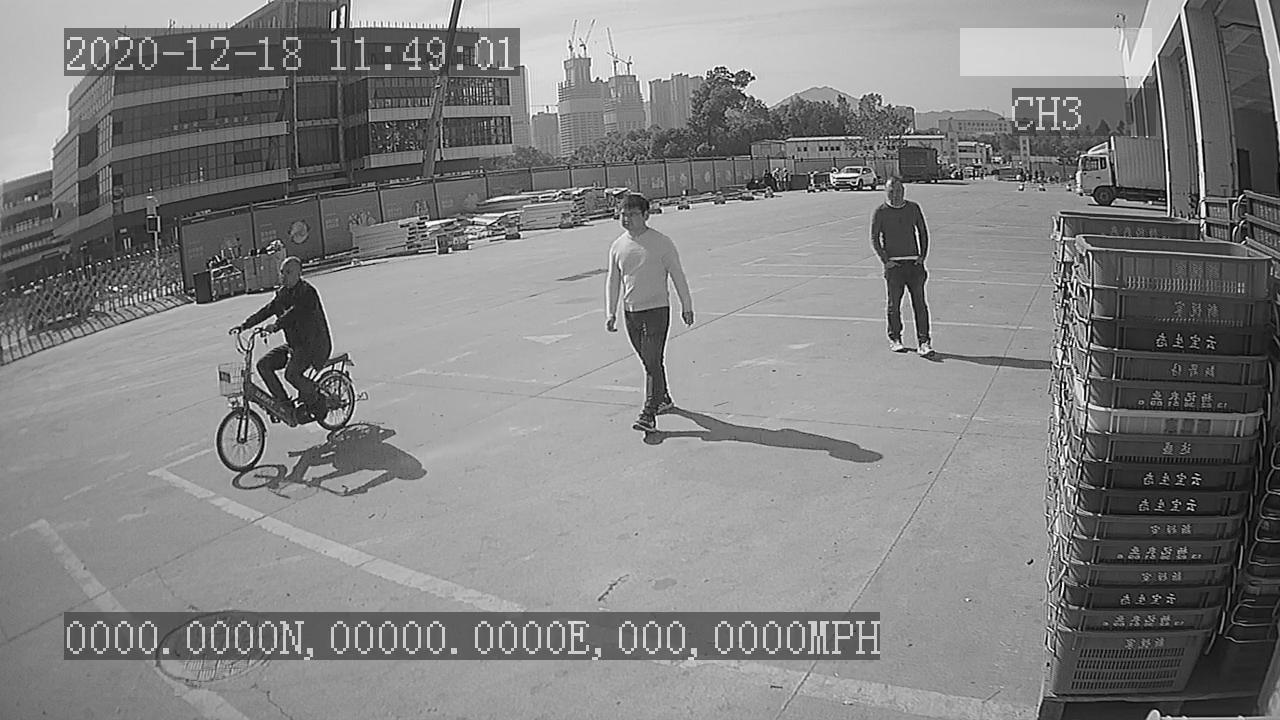person: (602, 192, 701, 442), (867, 172, 940, 361)
